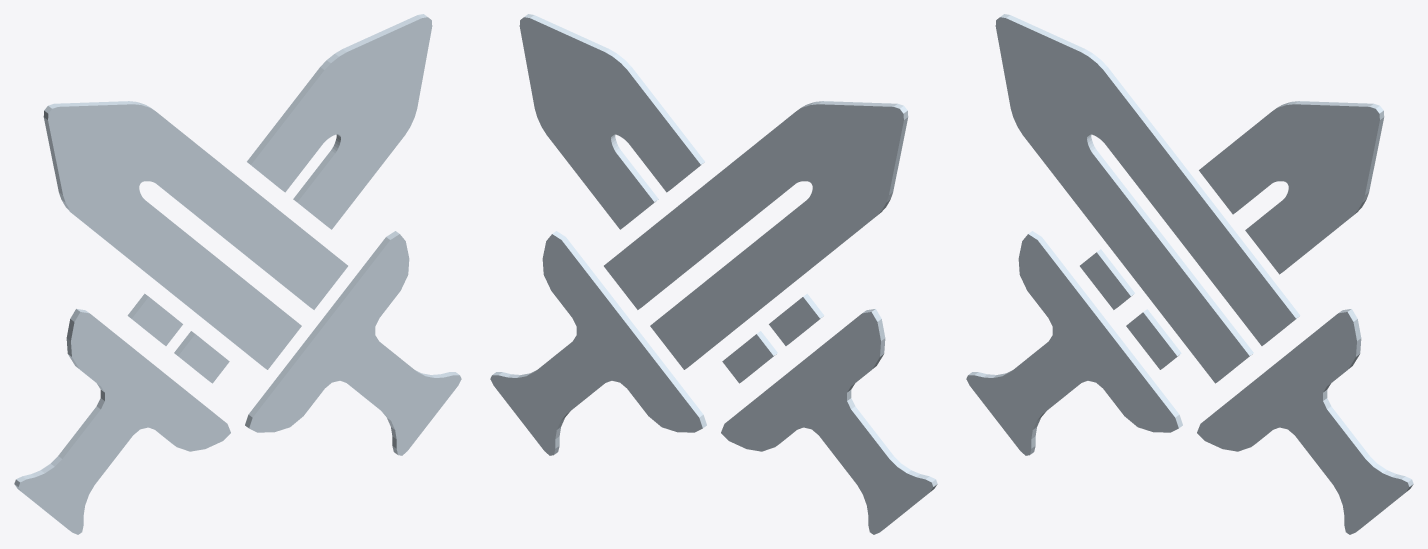
File: Battle_3D_Icon.fbx
3 renders of one model, left to right at view 1: azimuth 30°, elevation 25°; view 2: azimuth 150°, elevation 25°; view 3: azimuth 330°, elevation 25°, orthographic.
Parts seen in each view (by area): view 1: Battle_3D_Icon_01; view 2: Battle_3D_Icon_01; view 3: Battle_3D_Icon_01.
Boxes of the visible parts, left/top/right/bottom form: Battle_3D_Icon_01: left=14, top=14, right=461, bottom=534; Battle_3D_Icon_01: left=490, top=14, right=937, bottom=534; Battle_3D_Icon_01: left=966, top=14, right=1413, bottom=534.
Bounding box in the file's own units: 119 × 111 × 2.
